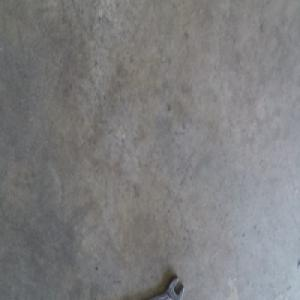Wrench: (152, 275, 186, 299)
